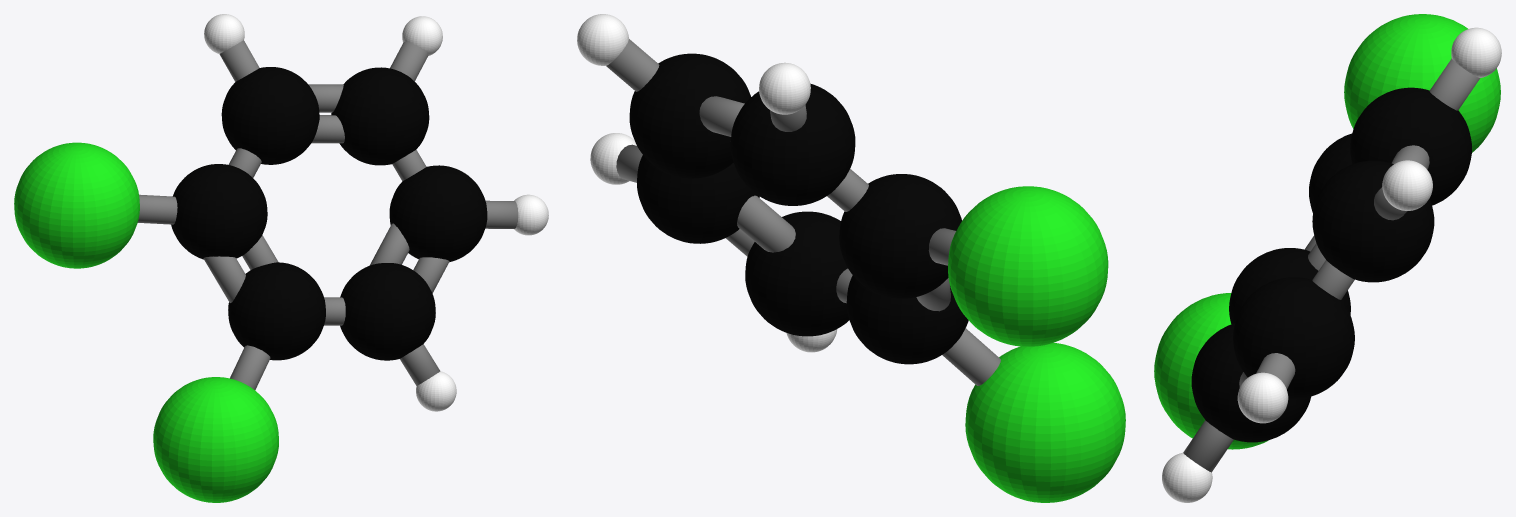
The model's file is DICLOROBENCENO.obj.
The picture shows the model from 3 angles, left to right: view 1: azimuth 30°, elevation 25°; view 2: azimuth 150°, elevation 25°; view 3: azimuth 270°, elevation 25°; orthographic projection. The views are drawn at different scales.
Visible parts, largest first — view 1: Carbon_ball_Sphere.001, Chlorine_ball_Sphere, Hydrogen_ball_Sphere.002, Stick_Cylinder.012_Cylinder.012, Stick_Cylinder_Cylinder, Stick_Cylinder.008_Cylinder.008, Stick_Cylinder.013_Cylinder.013, Stick_Cylinder.001_Cylinder.001, Stick_Cylinder.011_Cylinder.011, Stick_Cylinder.005_Cylinder.005, Stick_Cylinder.004_Cylinder.004, Stick_Cylinder.014_Cylinder.014 (+5 smaller); view 2: Carbon_ball_Sphere.001, Chlorine_ball_Sphere, Hydrogen_ball_Sphere.002, Stick_Cylinder.013_Cylinder.013, Stick_Cylinder_Cylinder, Stick_Cylinder.005_Cylinder.005, Stick_Cylinder.002_Cylinder.002, Stick_Cylinder.003_Cylinder.003, Stick_Cylinder.004_Cylinder.004, Stick_Cylinder.008_Cylinder.008, Stick_Cylinder.012_Cylinder.012, Stick_Cylinder.001_Cylinder.001; view 3: Carbon_ball_Sphere.001, Chlorine_ball_Sphere, Hydrogen_ball_Sphere.002, Stick_Cylinder.011_Cylinder.011, Stick_Cylinder.001_Cylinder.001, Stick_Cylinder.006_Cylinder.006, Stick_Cylinder.004_Cylinder.004, Stick_Cylinder.002_Cylinder.002, Stick_Cylinder.005_Cylinder.005.
Boxes of the visible parts, x1=… form: Carbon_ball_Sphere.001: x1=171, y1=67, x2=487, y2=360; Chlorine_ball_Sphere: x1=14, y1=142, x2=278, y2=502; Hydrogen_ball_Sphere.002: x1=204, y1=14, x2=548, y2=411; Stick_Cylinder.012_Cylinder.012: x1=203, y1=256, x2=245, y2=302; Stick_Cylinder_Cylinder: x1=230, y1=345, x2=270, y2=389; Stick_Cylinder.008_Cylinder.008: x1=137, y1=194, x2=177, y2=224; Stick_Cylinder.013_Cylinder.013: x1=369, y1=223, x2=409, y2=265; Stick_Cylinder.001_Cylinder.001: x1=219, y1=40, x2=259, y2=81; Stick_Cylinder.011_Cylinder.011: x1=400, y1=344, x2=440, y2=385; Stick_Cylinder.005_Cylinder.005: x1=390, y1=41, x2=428, y2=81; Stick_Cylinder.004_Cylinder.004: x1=485, y1=200, x2=518, y2=228; Stick_Cylinder.014_Cylinder.014: x1=311, y1=115, x2=344, y2=143; Carbon_ball_Sphere.001: x1=629, y1=53, x2=968, y2=364; Chlorine_ball_Sphere: x1=948, y1=186, x2=1125, y2=502; Hydrogen_ball_Sphere.002: x1=577, y1=14, x2=837, y2=352; Stick_Cylinder.013_Cylinder.013: x1=737, y1=195, x2=795, y2=252; Stick_Cylinder_Cylinder: x1=942, y1=328, x2=1000, y2=385; Stick_Cylinder.005_Cylinder.005: x1=606, y1=39, x2=659, y2=91; Stick_Cylinder.002_Cylinder.002: x1=699, y1=96, x2=744, y2=136; Stick_Cylinder.003_Cylinder.003: x1=827, y1=169, x2=868, y2=211; Stick_Cylinder.004_Cylinder.004: x1=616, y1=144, x2=642, y2=182; Stick_Cylinder.008_Cylinder.008: x1=928, y1=228, x2=955, y2=265; Stick_Cylinder.012_Cylinder.012: x1=916, y1=278, x2=950, y2=311; Stick_Cylinder.001_Cylinder.001: x1=770, y1=105, x2=806, y2=131; Carbon_ball_Sphere.001: x1=1191, y1=87, x2=1471, y2=442; Chlorine_ball_Sphere: x1=1154, y1=14, x2=1500, y2=449; Hydrogen_ball_Sphere.002: x1=1162, y1=27, x2=1501, y2=502; Stick_Cylinder.011_Cylinder.011: x1=1183, y1=420, x2=1233, y2=472; Stick_Cylinder.001_Cylinder.001: x1=1429, y1=58, x2=1480, y2=110; Stick_Cylinder.006_Cylinder.006: x1=1312, y1=260, x2=1354, y2=299; Stick_Cylinder.004_Cylinder.004: x1=1256, y1=353, x2=1295, y2=389; Stick_Cylinder.002_Cylinder.002: x1=1391, y1=145, x2=1429, y2=169; Stick_Cylinder.005_Cylinder.005: x1=1374, y1=187, x2=1407, y2=220.
Bounding box in the file's own units: 7.49 × 5.98 × 3.95.
